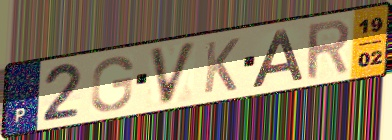2: (42, 61, 84, 125)
A: (248, 27, 305, 90)
G: (89, 54, 136, 113)
K: (202, 36, 242, 96)
R: (305, 17, 352, 83)
V: (147, 38, 199, 107)
